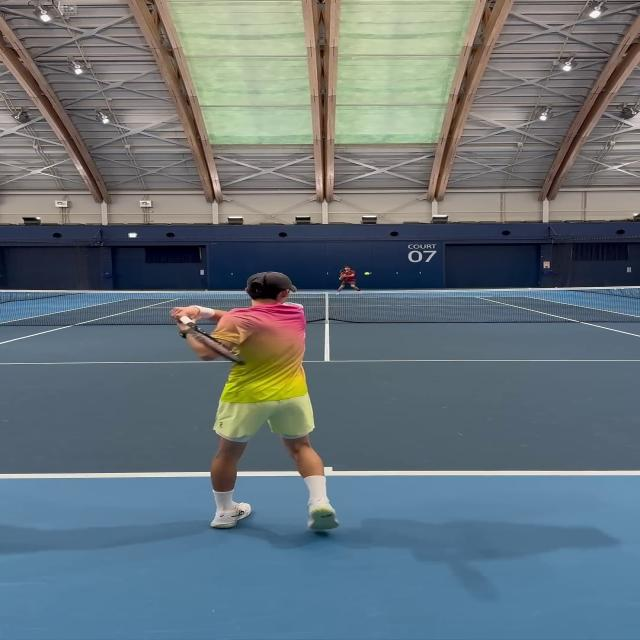tennis_ball: (365, 272, 369, 275)
